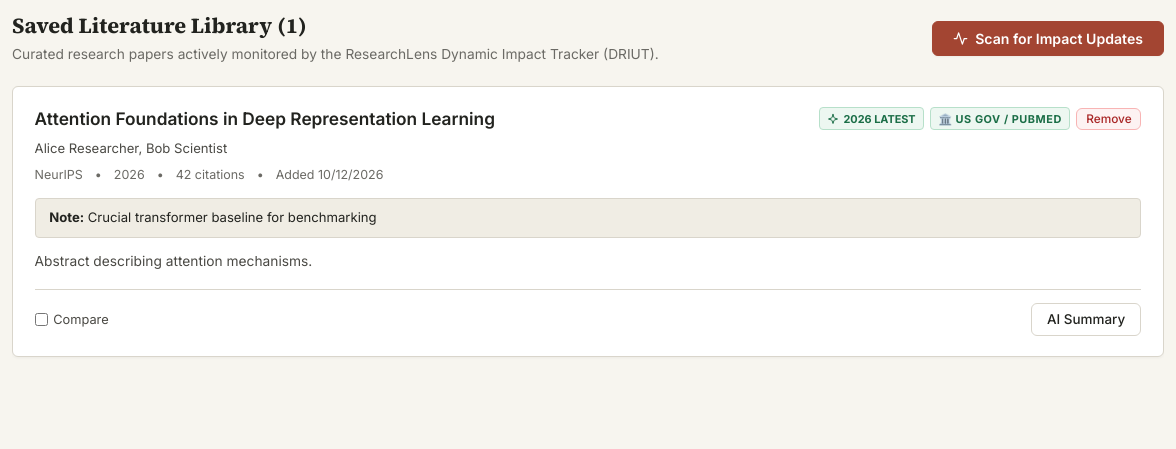
Scenario: SavedLibraryView Component › displays inline error banner and allows dismissing when remove fails
Click the button "Remove" at (1109, 119), box [1076,108,1141,130]
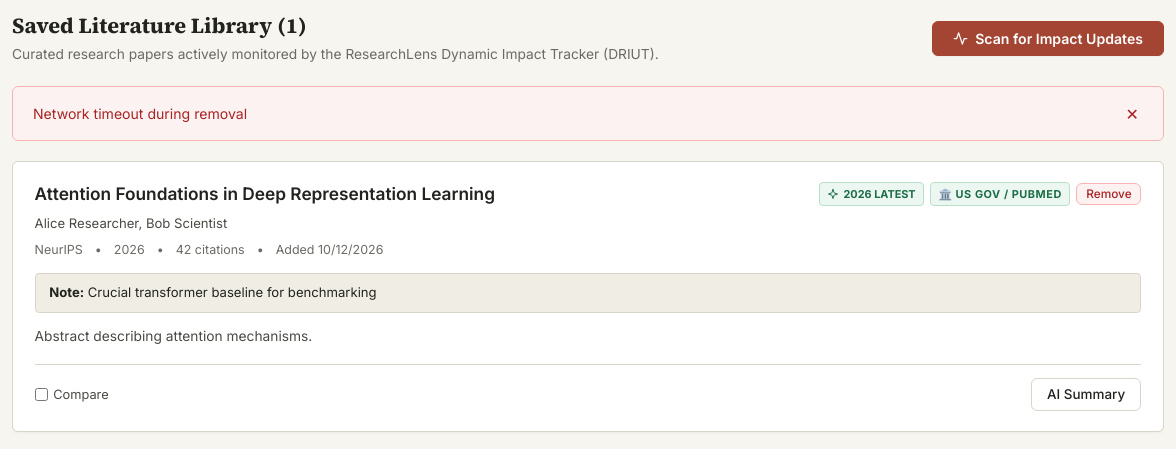
Expected: the text "Network timeout during removal" is shown, [33,105,247,122]
Dismiss error
Click the button "✕" at (1132, 114), box [1122,104,1143,124]
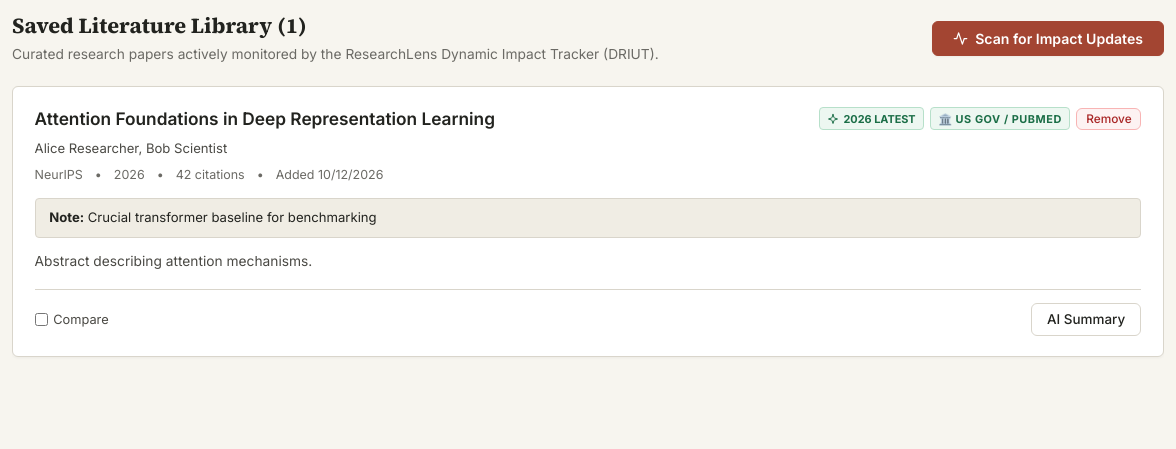
Expected: the text "Network timeout during removal" is gone
